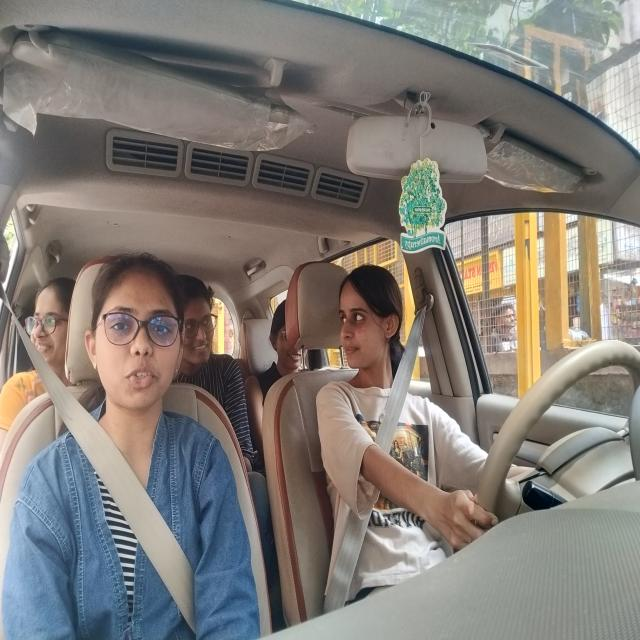LeftRight: (334, 265, 408, 381)
person: (83, 247, 184, 410), (26, 272, 74, 381), (175, 275, 220, 372), (269, 292, 308, 367)
